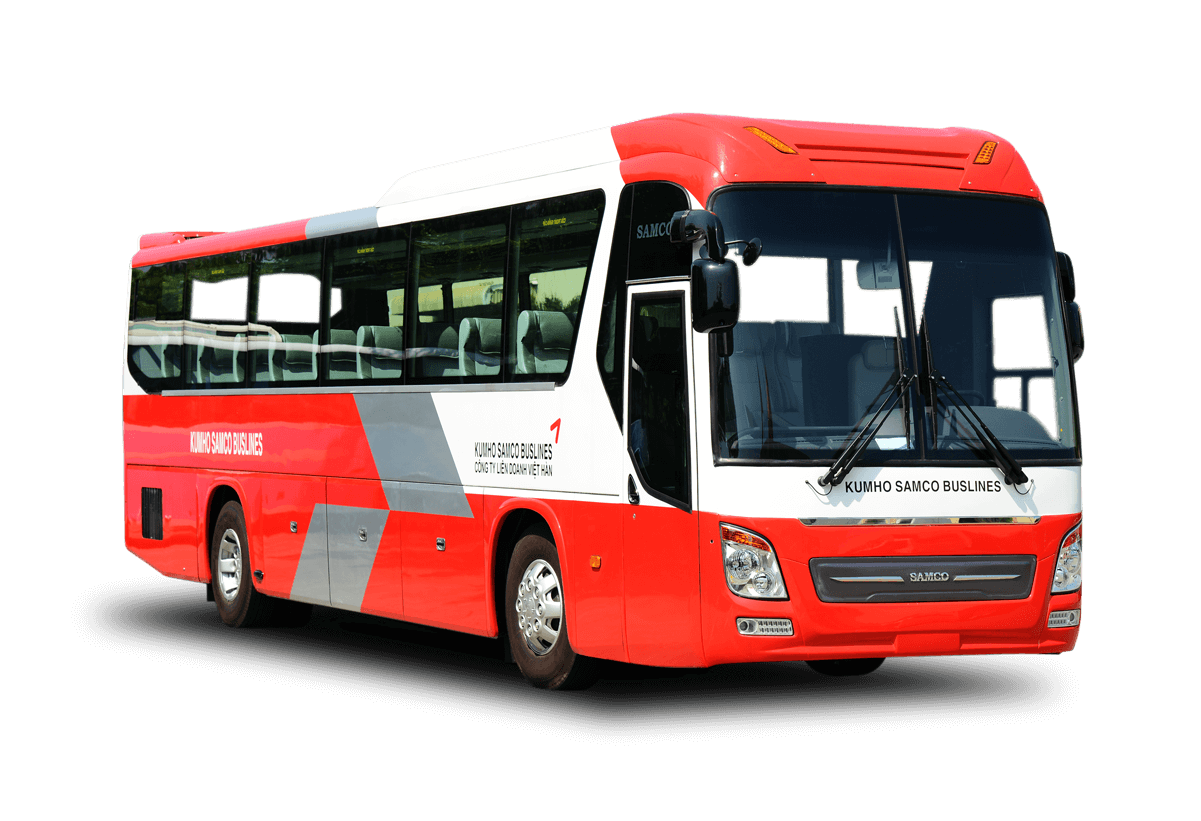bus: (124, 111, 1087, 691)
